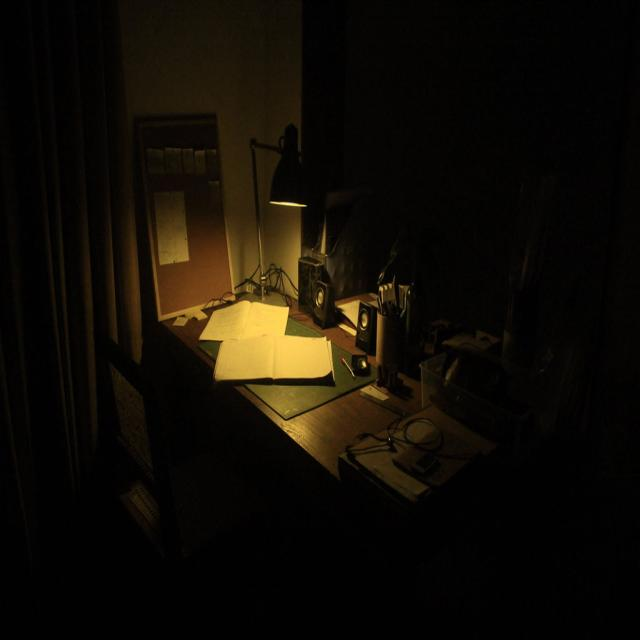Table: (154, 261, 551, 634)
